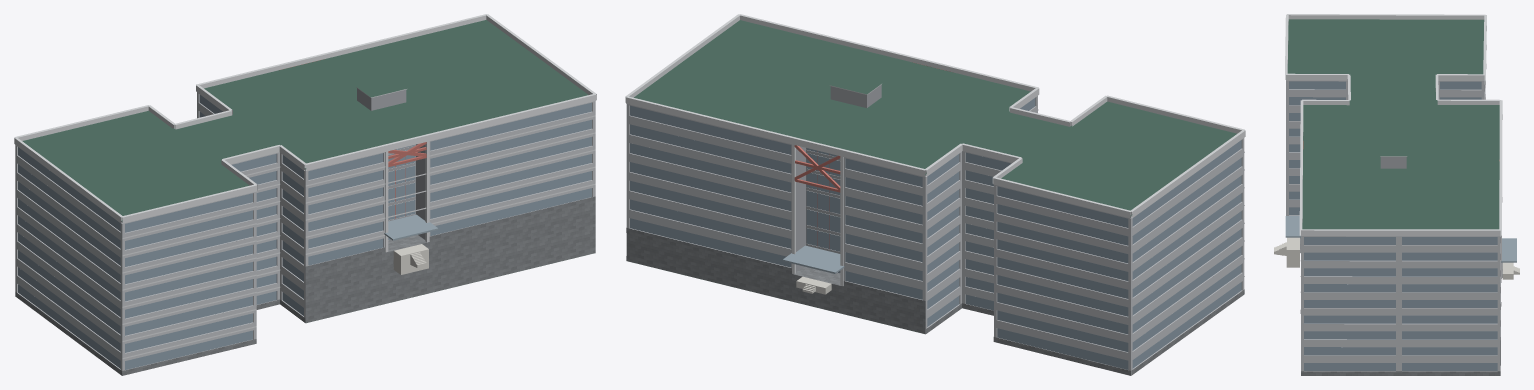
3 renders of one model, left to right at view 1: azimuth 30°, elevation 25°; view 2: azimuth 150°, elevation 25°; view 3: azimuth 270°, elevation 25°, orthographic. The views are drawn at different scales.
Parts seen in each view (by area): view 1: b302__roof, b302__glass, b302__wall, b302__base, b302__trim, b302__wall2, b302__entranceStair, b302__canopy, b302__frame; view 2: b302__glass, b302__roof, b302__wall, b302__base, b302__trim, b302__wall2, b302__canopy, b302__frame; view 3: b302__roof, b302__wall, b302__glass, b302__trim, b302__base, b302__entranceStair, b302__canopy, b302__wall2.
Part boxes in pixels (box(x1,y1,x2,y2)): b302__roof: box(22, 20, 588, 323); b302__glass: box(18, 94, 591, 369); b302__wall: box(15, 92, 595, 375); b302__base: box(15, 196, 595, 375); b302__trim: box(14, 14, 596, 359); b302__wall2: box(357, 88, 425, 239); b302__entranceStair: box(393, 244, 428, 274); b302__canopy: box(384, 214, 438, 240); b302__frame: box(279, 59, 426, 218); b302__glass: box(630, 98, 1241, 369); b302__roof: box(633, 20, 1236, 332); b302__wall: box(626, 96, 1244, 375); b302__base: box(626, 228, 1244, 375); b302__trim: box(625, 14, 1245, 285); b302__wall2: box(796, 85, 881, 271); b302__canopy: box(782, 245, 844, 273); b302__frame: box(794, 62, 950, 248); b302__roof: box(1287, 19, 1499, 229); b302__wall: box(1286, 80, 1500, 371); b302__glass: box(1289, 81, 1497, 370); b302__trim: box(1285, 14, 1502, 292); b302__base: box(1300, 237, 1502, 375); b302__entranceStair: box(1274, 237, 1519, 279); b302__canopy: box(1285, 216, 1516, 262); b302__wall2: box(1380, 157, 1406, 168).
Size of the model in its own units: 103 by 34.32 by 49.5.
10 materials, 1 textured.
